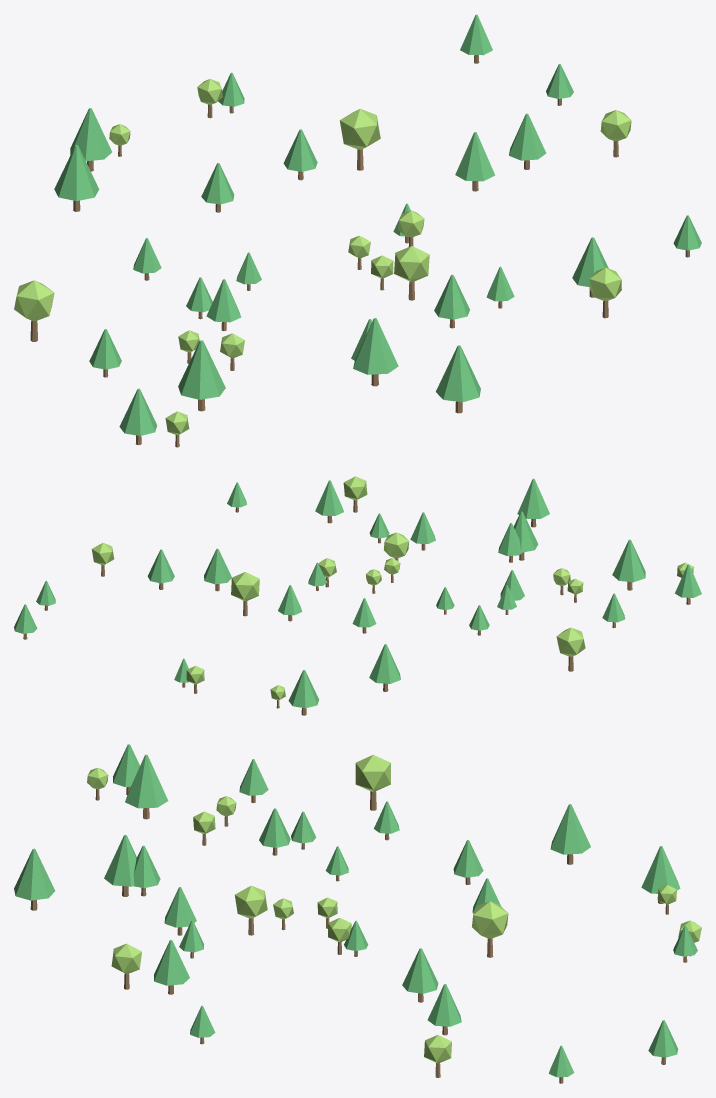
Rendered from PropsQ_wn-transformed.glb.
The picture shows the model from 3 angles, top to bottom: view 1: azimuth 30°, elevation 25°; view 2: azimuth 150°, elevation 25°; view 3: azimuth 270°, elevation 25°; orthographic projection. The views are drawn at different scales.
Parts seen in each view (by area): view 1: PropsQ_wn; view 2: PropsQ_wn; view 3: PropsQ_wn.
Part boxes in pixels (box(x1,y1,x2,y2)): PropsQ_wn: box(14, 14, 701, 447); PropsQ_wn: box(14, 476, 701, 715); PropsQ_wn: box(14, 744, 701, 1083).
Size of the model in its own units: 120 by 14.98 by 114.
